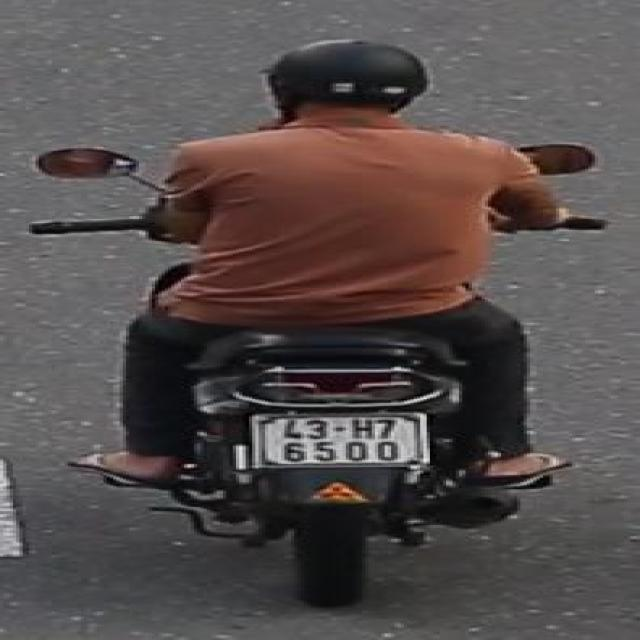LP: (244, 407, 435, 466)
helmet: (257, 35, 441, 135)
